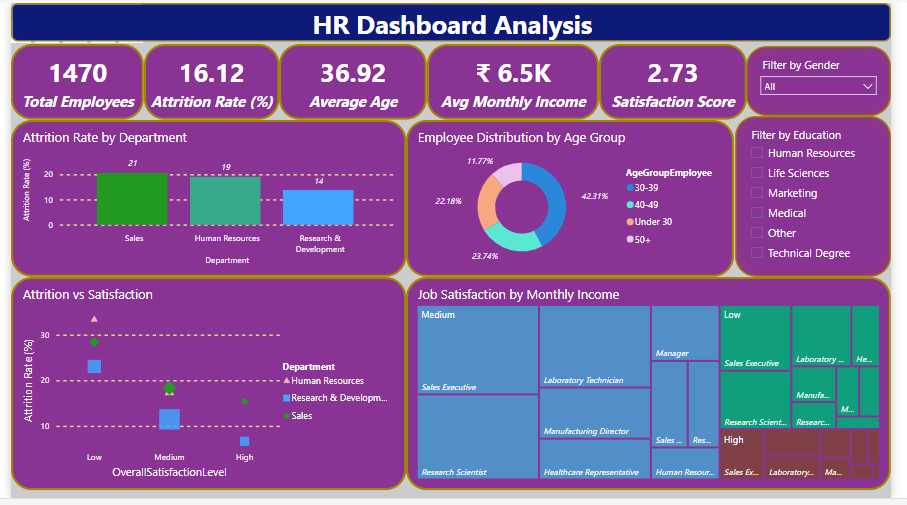

What the dashboard file says about the page in this screenshot:
{"tool":"powerbi","page":{"name":"HR Summary","canvas":[1280,720],"ordinal":0},"visuals":[{"type":"card","fields":{"Values":["WA_Fn-UseC_-HR-Employee-Attriti.Total Employees"]},"box":[0,60,193.3,110],"z":0},{"type":"card","fields":{"Values":["WA_Fn-UseC_-HR-Employee-Attriti.Attrition Rate (%)"]},"box":[193.3,60,196.7,110],"z":1000},{"type":"card","fields":{"Values":["WA_Fn-UseC_-HR-Employee-Attriti.Average Age"]},"box":[390,60,215,110],"z":2000},{"type":"card","fields":{"Values":["WA_Fn-UseC_-HR-Employee-Attriti.Average Monthly Income"]},"box":[605,60,250,110],"z":3000},{"type":"card","fields":{"Values":["WA_Fn-UseC_-HR-Employee-Attriti.Overall Satisfaction Score"]},"box":[855,60,215,110],"z":4000},{"type":"clusteredColumnChart","title":"Attrition Rate by Department","fields":{"Category":["WA_Fn-UseC_-HR-Employee-Attriti.Department"],"Y":["WA_Fn-UseC_-HR-Employee-Attriti.Attrition Rate (%)"]},"box":[0,170,575,228.3],"z":5000},{"type":"donutChart","title":"Employee Distribution by Age Group","fields":{"Category":["WA_Fn-UseC_-HR-Employee-Attriti.AgeGroupEmployee"],"Y":["WA_Fn-UseC_-HR-Employee-Attriti.Total Employees"]},"box":[575,170,476.7,228.3],"z":6000},{"type":"scatterChart","title":"Attrition vs Satisfaction","fields":{"X":["WA_Fn-UseC_-HR-Employee-Attriti.OverallSatisfactionLevel"],"Y":["WA_Fn-UseC_-HR-Employee-Attriti.Attrition Rate (%)"],"Series":["WA_Fn-UseC_-HR-Employee-Attriti.Department"],"Size":["WA_Fn-UseC_-HR-Employee-Attriti.Total Employees"]},"box":[0,398.3,575,310],"z":7000},{"type":"treemap","title":"Job Satisfaction by Monthly Income","fields":{"Group":["WA_Fn-UseC_-HR-Employee-Attriti.OverallSatisfactionLevel"],"Values":["WA_Fn-UseC_-HR-Employee-Attriti.Total Employees"],"Details":["WA_Fn-UseC_-HR-Employee-Attriti.JobRole"]},"box":[575,398.3,705,310],"z":8000},{"type":"textbox","title":"HR Dashboard Analysis","box":[0,0,1280,56],"z":9000},{"type":"slicer","fields":{"Values":["WA_Fn-UseC_-HR-Employee-Attriti.Gender"]},"box":[1069,62.6,210.9,101.9],"z":9001},{"type":"slicer","fields":{"Values":["WA_Fn-UseC_-HR-Employee-Attriti.EducationField"]},"box":[1053,164.5,227,234.2],"z":9002}]}

Visuals, with their boxes in screenshot pixels (x1, y1, x2, y2), scaled from the page's 1280x720 canvas onto the 907x505 screenshot:
card - WA_Fn-UseC_-HR-Employee-Attriti.Total Employees: (x1=0, y1=42, x2=137, y2=119)
card - WA_Fn-UseC_-HR-Employee-Attriti.Attrition Rate (%): (x1=137, y1=42, x2=276, y2=119)
card - WA_Fn-UseC_-HR-Employee-Attriti.Average Age: (x1=276, y1=42, x2=429, y2=119)
card - WA_Fn-UseC_-HR-Employee-Attriti.Average Monthly Income: (x1=429, y1=42, x2=606, y2=119)
card - WA_Fn-UseC_-HR-Employee-Attriti.Overall Satisfaction Score: (x1=606, y1=42, x2=758, y2=119)
"Attrition Rate by Department" clusteredColumnChart: (x1=0, y1=119, x2=407, y2=279)
"Employee Distribution by Age Group" donutChart: (x1=407, y1=119, x2=745, y2=279)
"Attrition vs Satisfaction" scatterChart: (x1=0, y1=279, x2=407, y2=497)
"Job Satisfaction by Monthly Income" treemap: (x1=407, y1=279, x2=906, y2=497)
"HR Dashboard Analysis" textbox: (x1=0, y1=0, x2=906, y2=39)
slicer - WA_Fn-UseC_-HR-Employee-Attriti.Gender: (x1=757, y1=44, x2=906, y2=115)
slicer - WA_Fn-UseC_-HR-Employee-Attriti.EducationField: (x1=746, y1=115, x2=906, y2=280)
